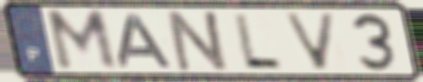3: (350, 11, 397, 73)
A: (116, 12, 177, 69)
L: (231, 11, 286, 71)
M: (42, 7, 122, 73)
N: (165, 9, 234, 73)
V: (280, 11, 340, 72)
